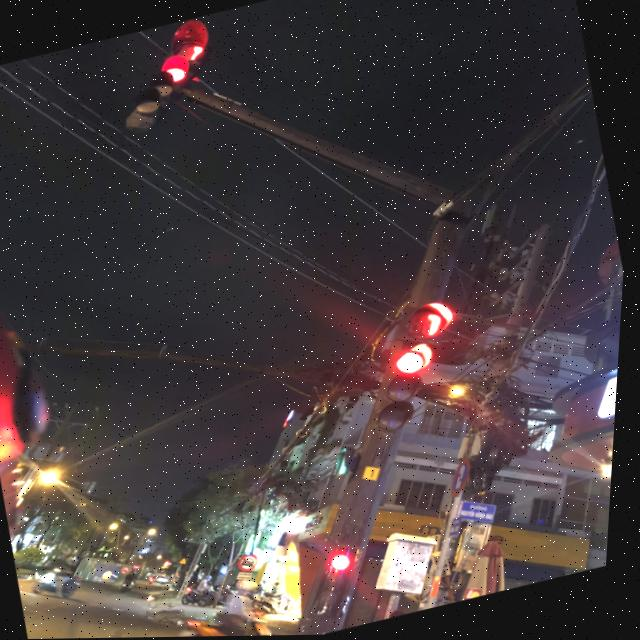Red: (359, 332, 474, 453), (116, 42, 208, 146)
